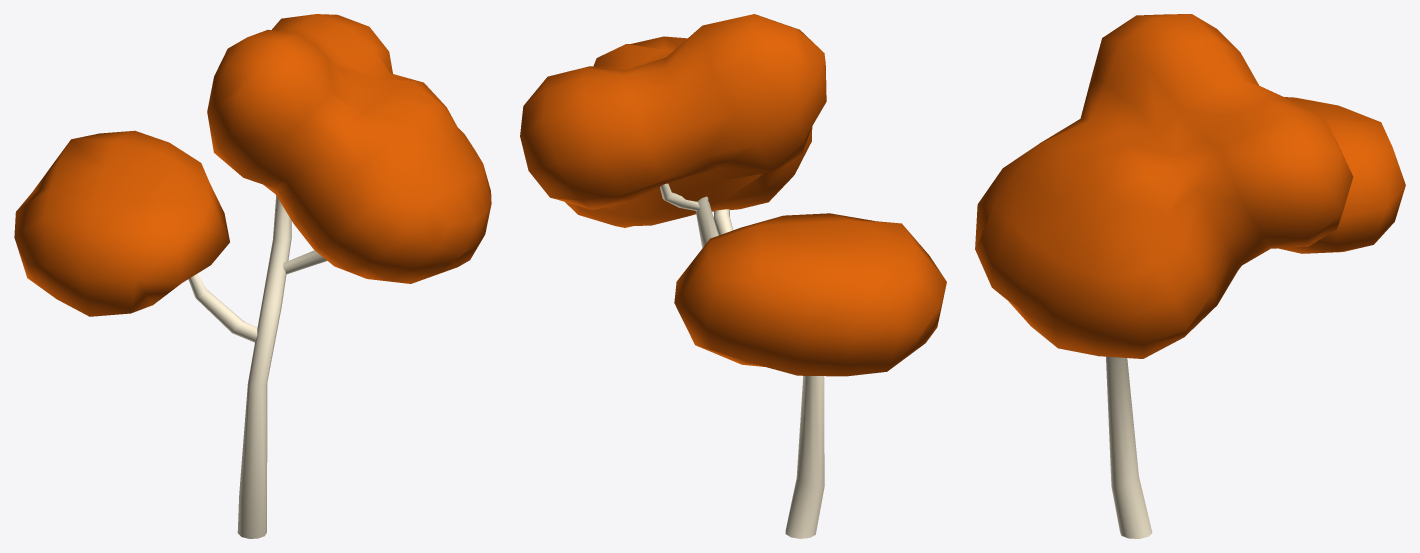
File: Tree_18_Fall.fbx
3 renders of one model, left to right at view 1: azimuth 30°, elevation 25°; view 2: azimuth 150°, elevation 25°; view 3: azimuth 270°, elevation 25°, orthographic. The views are drawn at different scales.
Visible parts, largest first — view 1: Tree_18_p2_Fall, Tree_18_p1_Fall; view 2: Tree_18_p2_Fall, Tree_18_p1_Fall; view 3: Tree_18_p2_Fall, Tree_18_p1_Fall.
Part boxes in pixels (left/top/right/bottom): Tree_18_p2_Fall: left=14, top=14, right=491, bottom=316; Tree_18_p1_Fall: left=188, top=195, right=327, bottom=538; Tree_18_p2_Fall: left=520, top=14, right=946, bottom=376; Tree_18_p1_Fall: left=660, top=183, right=824, bottom=538; Tree_18_p2_Fall: left=975, top=14, right=1405, bottom=358; Tree_18_p1_Fall: left=1106, top=356, right=1152, bottom=538.
Bounding box in the file's own units: 472 × 545 × 399.
